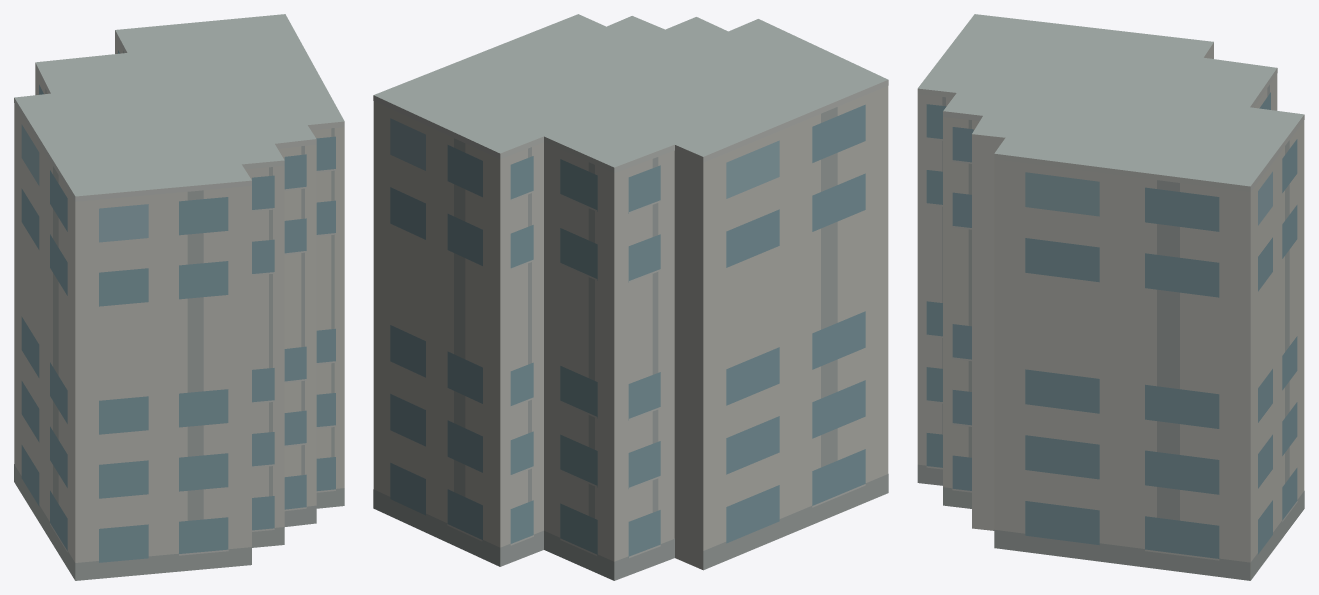
The model's file is survey-upis-32880285.glb.
The picture shows the model from 3 angles, left to right: view 1: azimuth 30°, elevation 25°; view 2: azimuth 150°, elevation 25°; view 3: azimuth 270°, elevation 25°; orthographic projection. The views are drawn at different scales.
Visible parts, largest first — view 1: survey-upis-32880285.tmp; view 2: survey-upis-32880285.tmp; view 3: survey-upis-32880285.tmp.
Part boxes in pixels (x1,y1,x2,y2): survey-upis-32880285.tmp: (14,14,344,580); survey-upis-32880285.tmp: (373,14,888,580); survey-upis-32880285.tmp: (917,14,1304,580).
Bounding box in the file's own units: 16.14 × 17.2 × 15.3.
